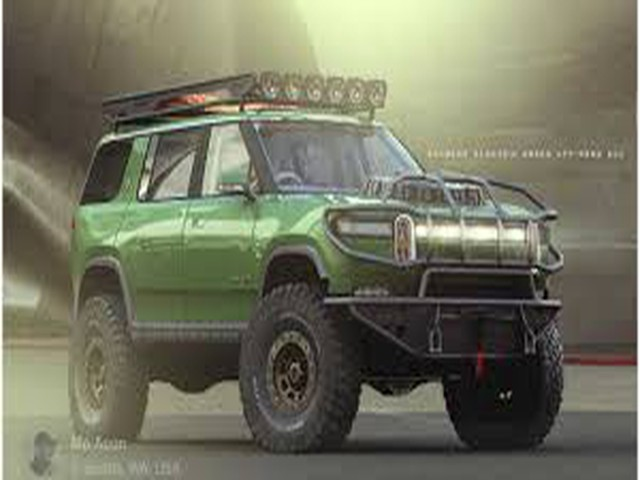Vehicle: (63, 69, 572, 456)
